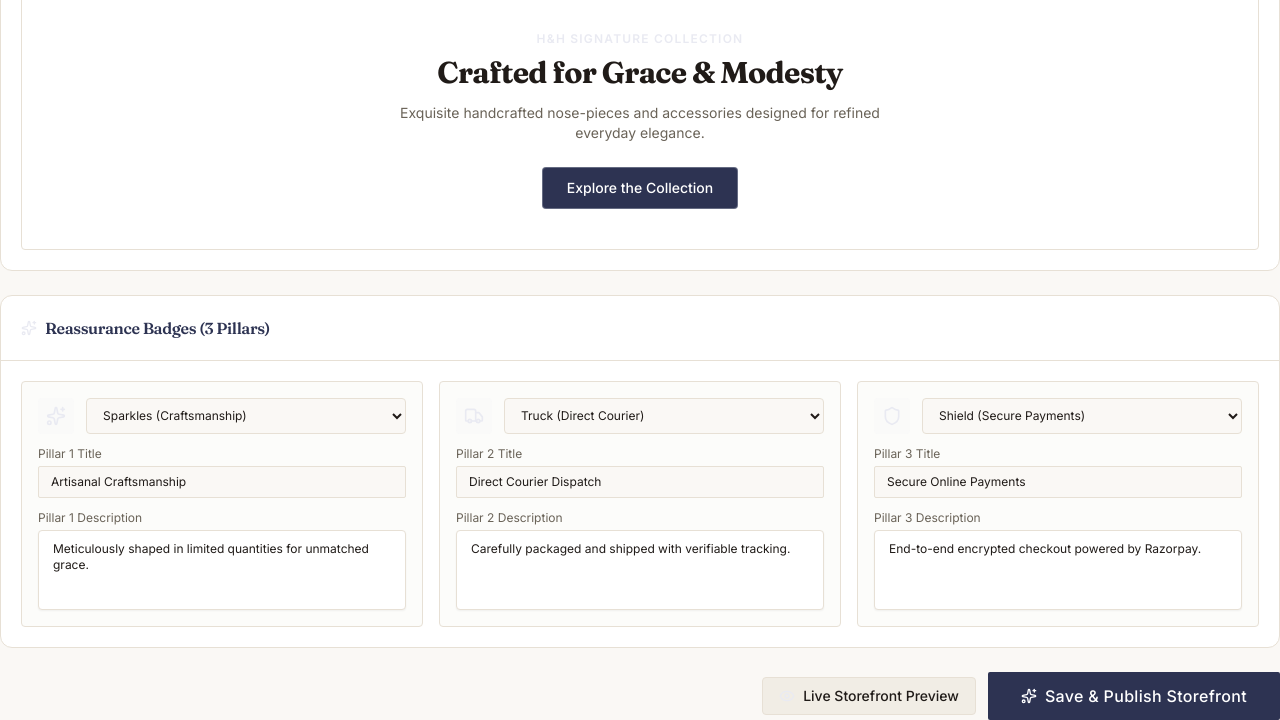
Test: BrandCustomizerDashboard Component › displays error alert when PATCH API rejects changes
The image size is (1280, 720).
(page scrolled)
Click the button "Save & Publish Storefront" at (1134, 696), box 988,672 -> 1279,719
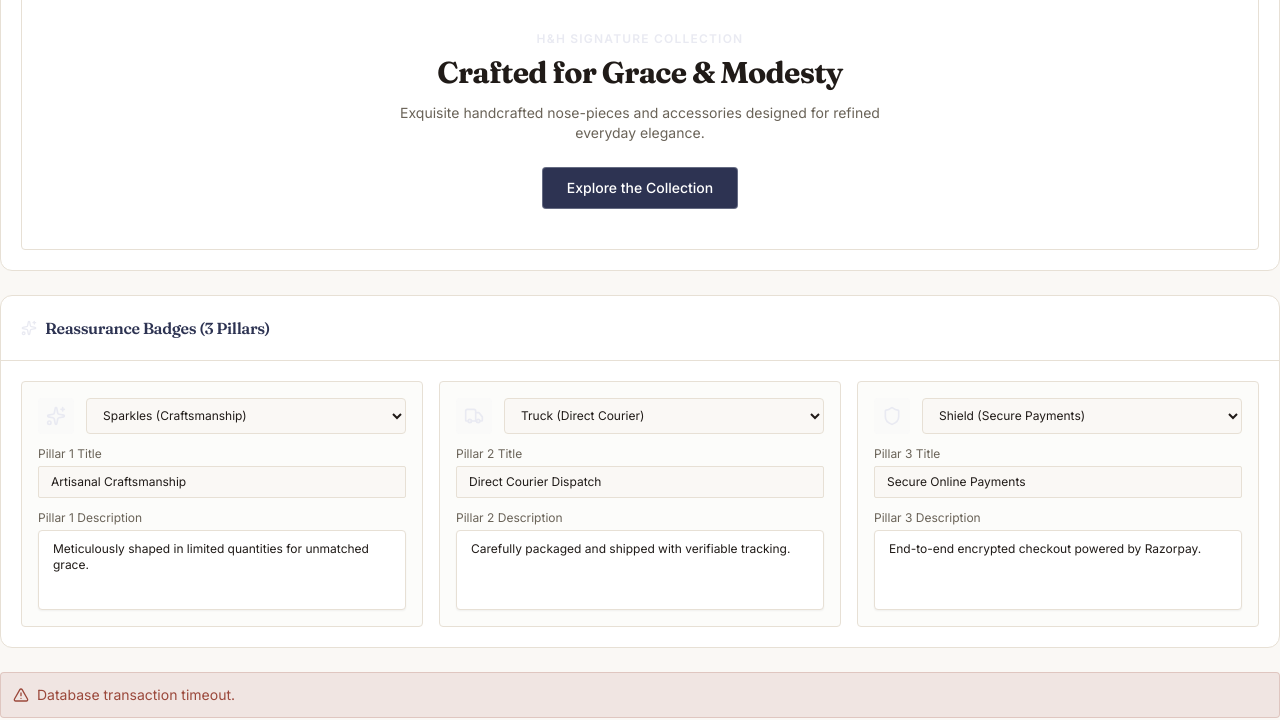
Expected: the text "Database transaction timeout." is shown, 37,685 -> 235,705
